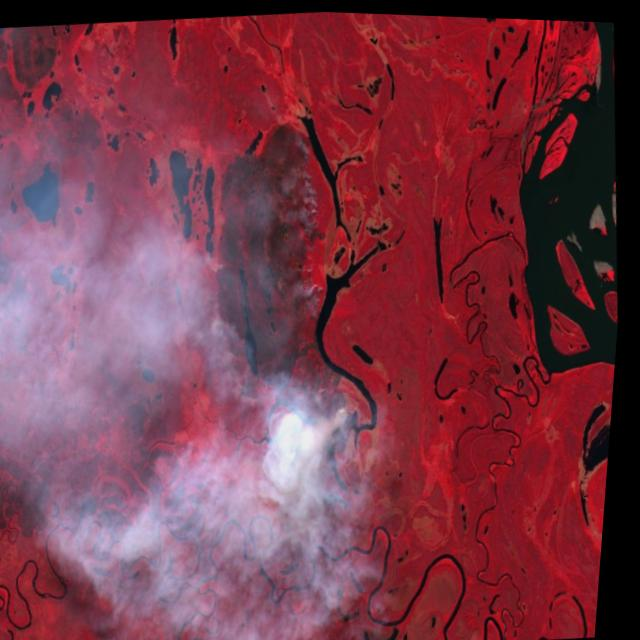fire: (279, 116, 349, 324), (302, 368, 366, 454)
